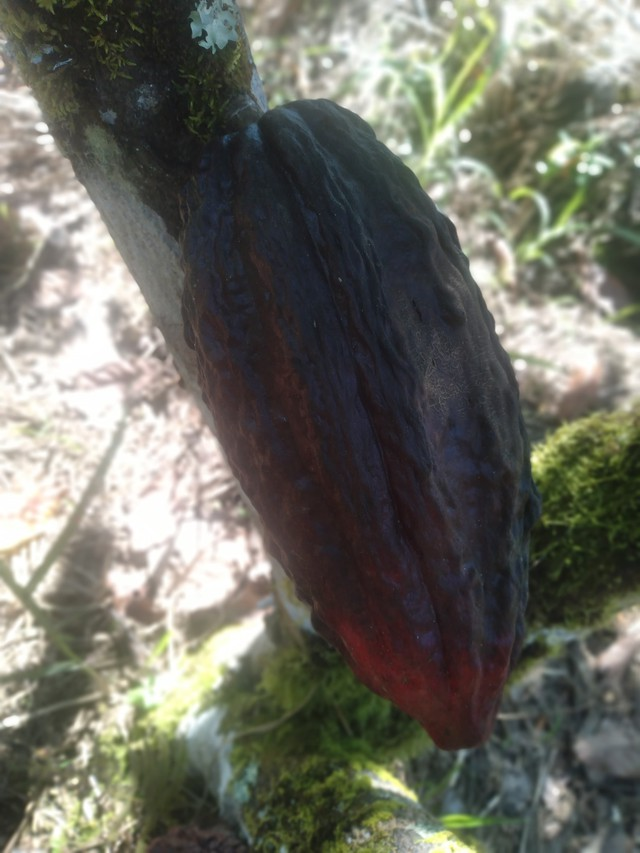phytophthora palmivora: (166, 82, 562, 756)
